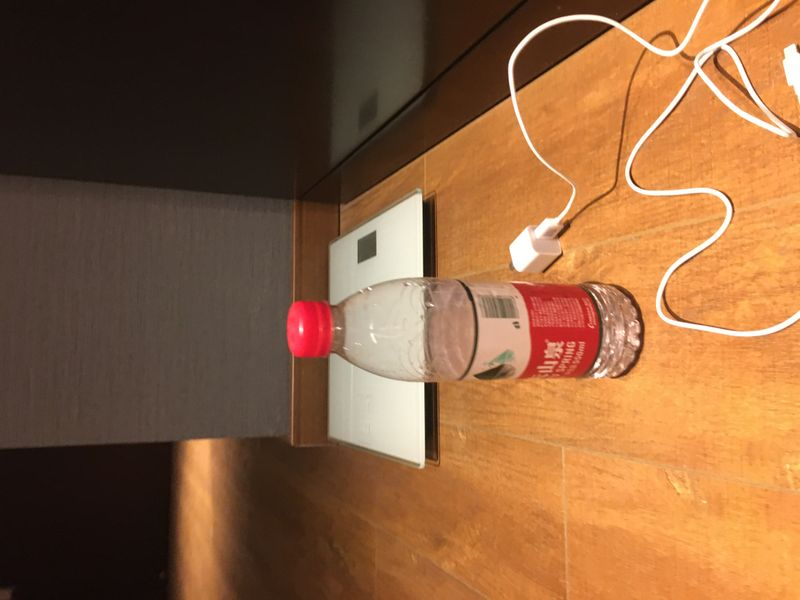5eca67a90202601e8cb8d104: (280, 279, 644, 381)
